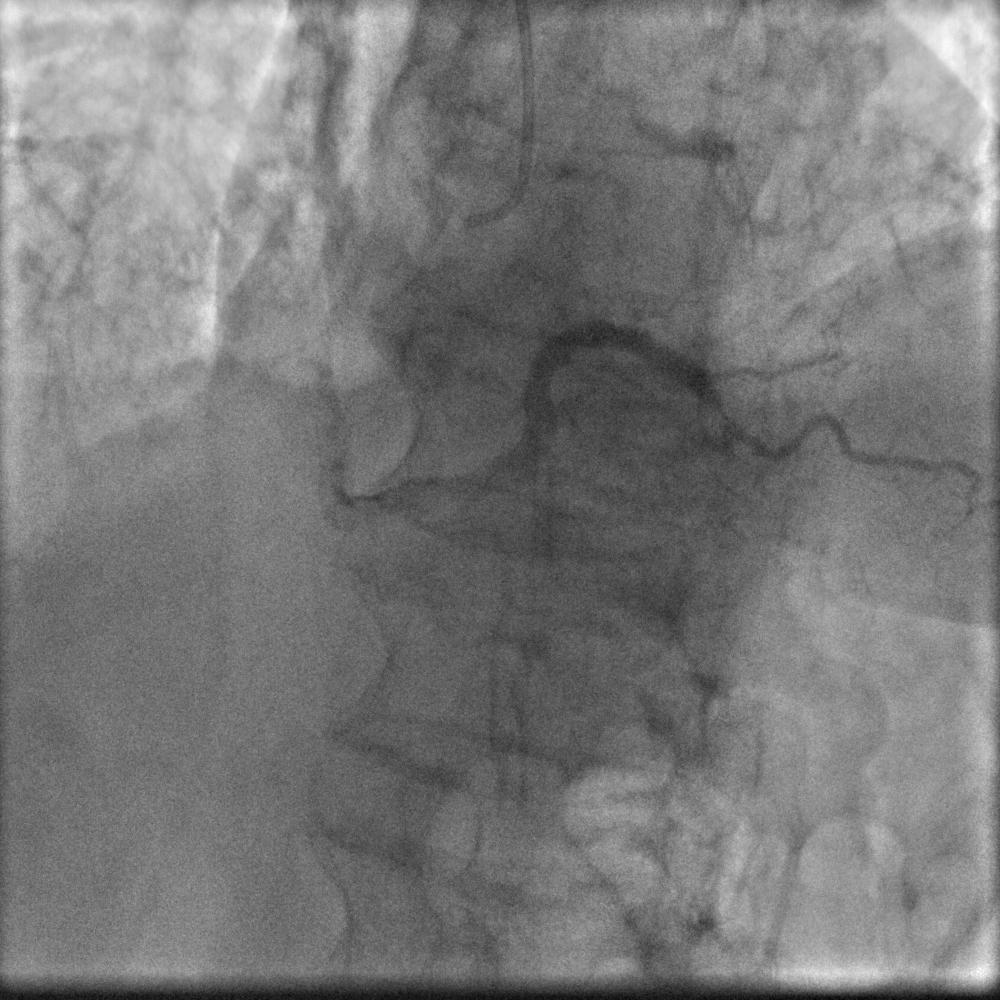Stenosis: (707, 356, 741, 436)
